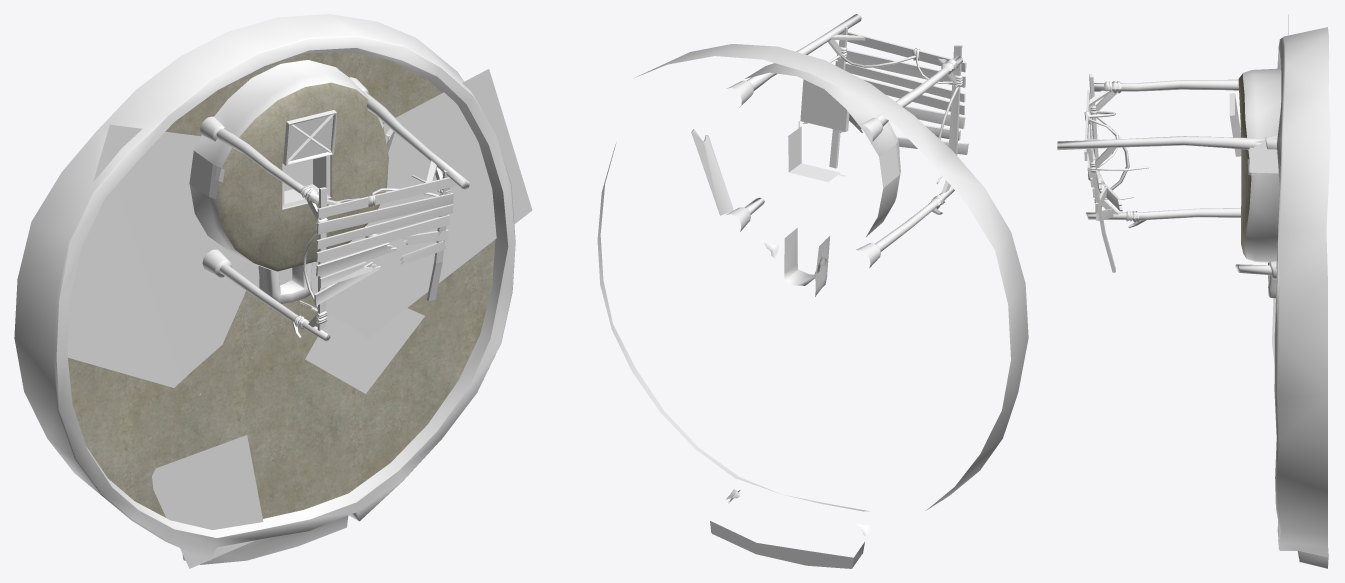
The model's file is egypt_prop_well1.glb.
The picture shows the model from 3 angles, left to right: view 1: azimuth 30°, elevation 25°; view 2: azimuth 150°, elevation 25°; view 3: azimuth 270°, elevation 25°; orthographic projection. The views are drawn at different scales.
Bounding box in the file's own units: 285 × 290 × 145.
6 materials, 1 textured.
